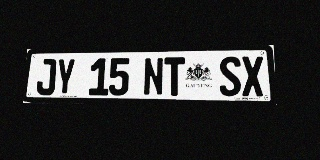1: (89, 58, 109, 96)
5: (109, 58, 129, 96)
J: (36, 59, 57, 95)
N: (143, 57, 164, 96)
S: (219, 56, 242, 96)
T: (164, 57, 185, 96)
X: (241, 56, 265, 96)
Y: (55, 58, 76, 95)
